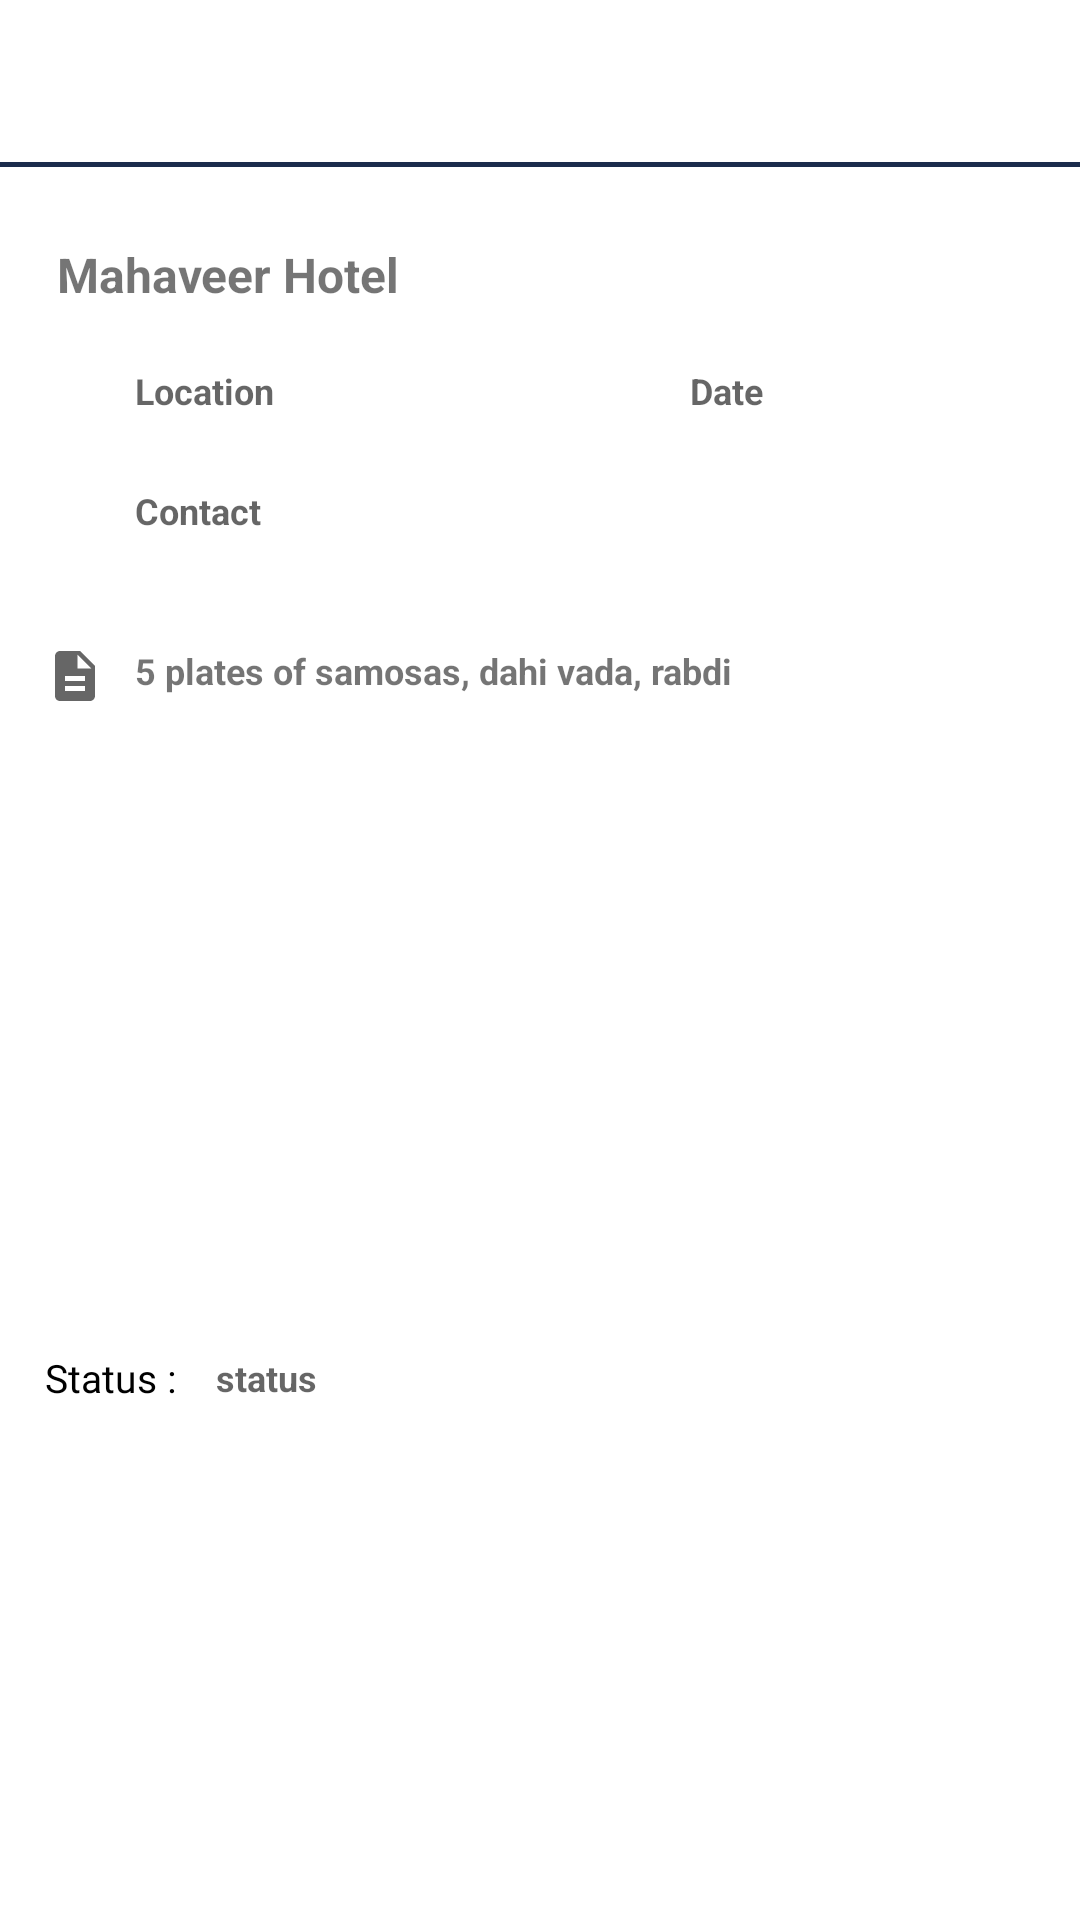

Named icons in this screenshot (1080×1920) and their centers, (x,y):
description: (75,676)
